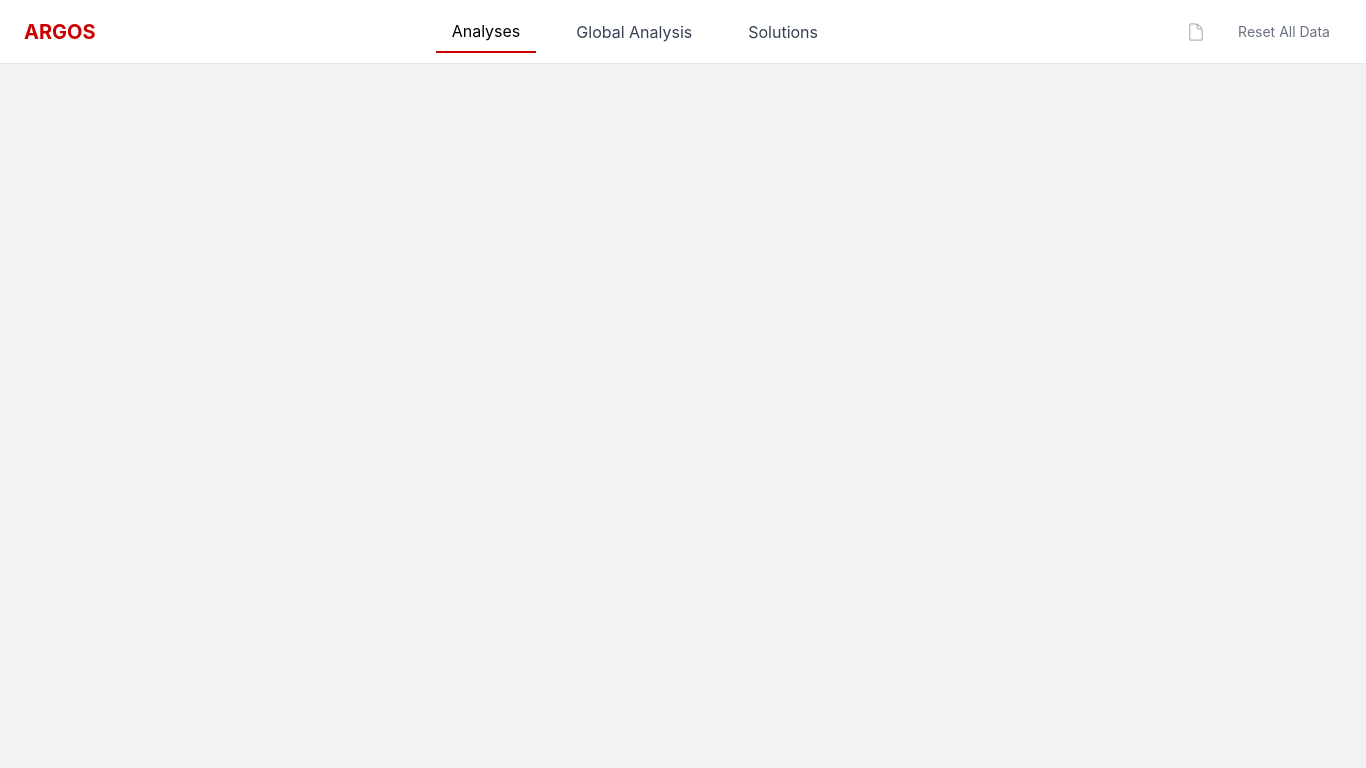
Test case: NavigationBar › Reset All Data (Story 4.5.1) › should open confirmation modal when Reset All Data is clicked
Click the button "Reset All Data" at (1284, 32), box [1226,16,1342,48]
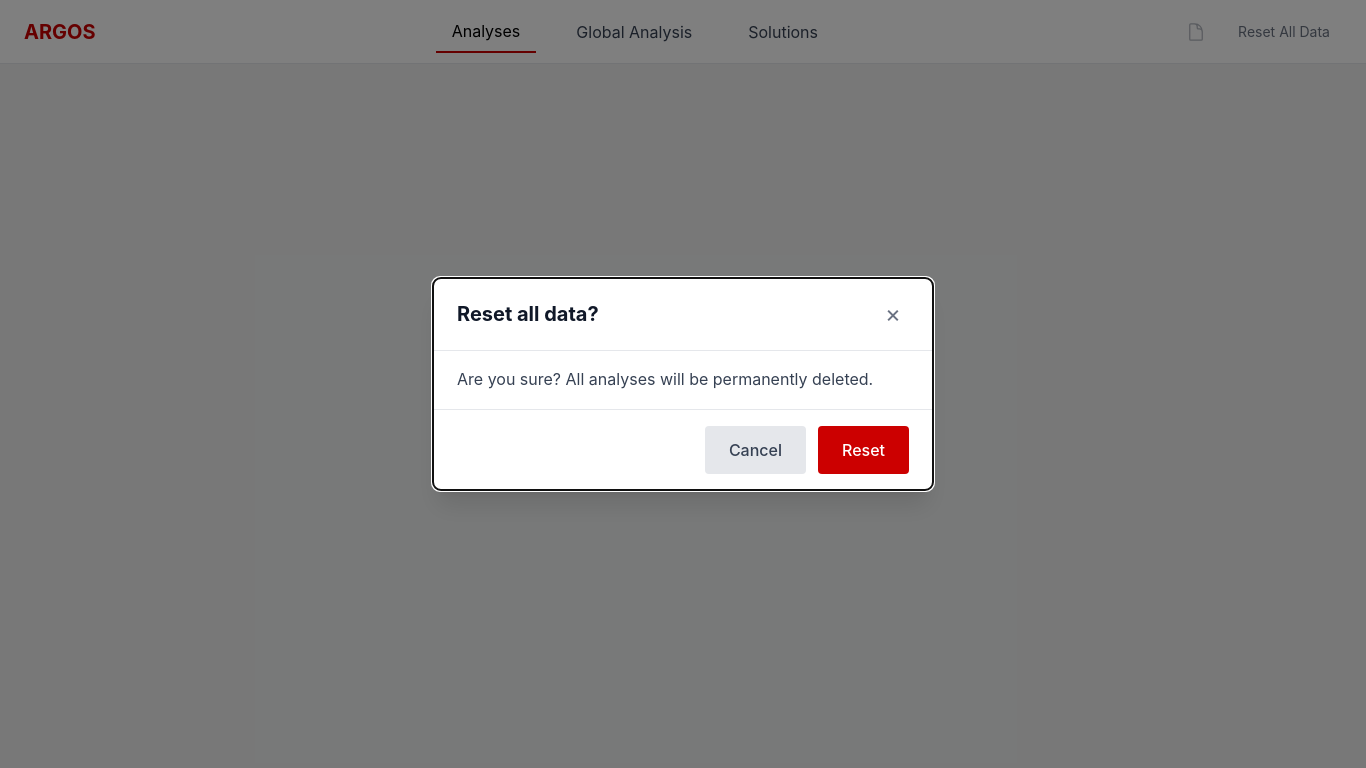
Expected: the heading "Reset all data?" is shown, [457,300,599,328]
Expected: the text "Are you sure? All analyses will be permanently deleted." is shown, [457,367,909,393]
